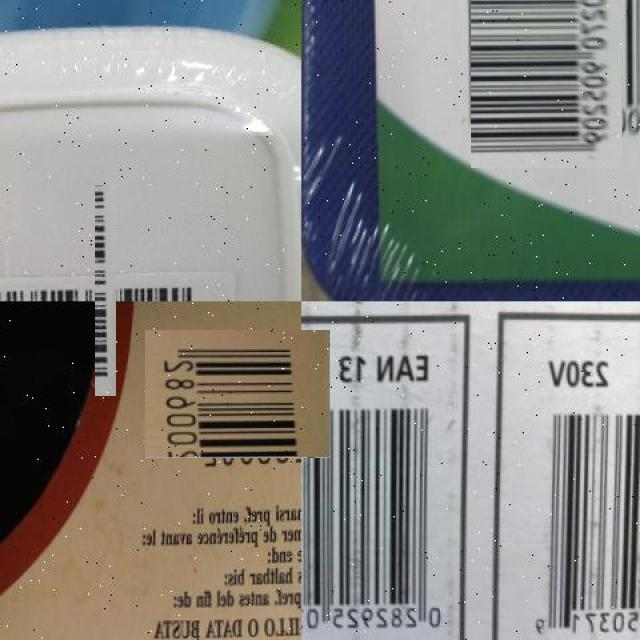Barcode: (301, 316, 475, 640), (463, 0, 631, 160), (159, 316, 316, 472), (47, 232, 164, 348)
